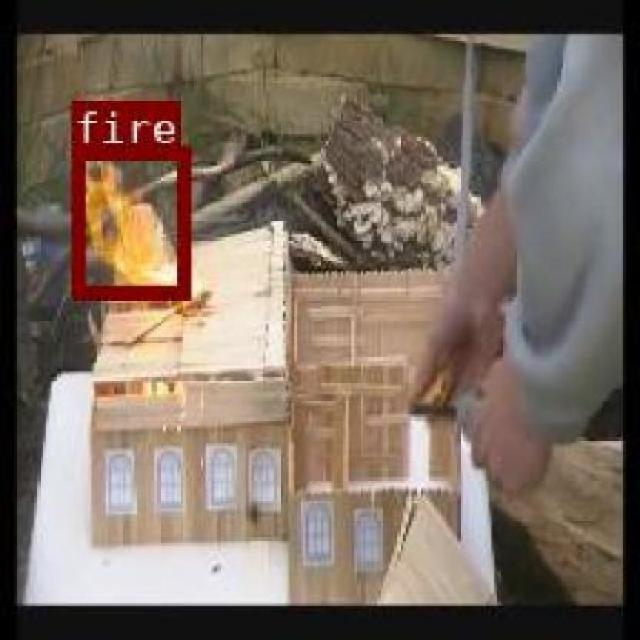Fire: (70, 143, 188, 294)
